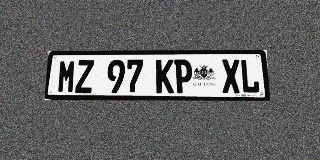7: (125, 60, 143, 93)
9: (107, 60, 125, 93)
K: (156, 59, 174, 93)
L: (240, 59, 260, 93)
M: (57, 60, 76, 93)
P: (174, 59, 193, 93)
X: (221, 59, 241, 93)
Z: (75, 60, 94, 93)
